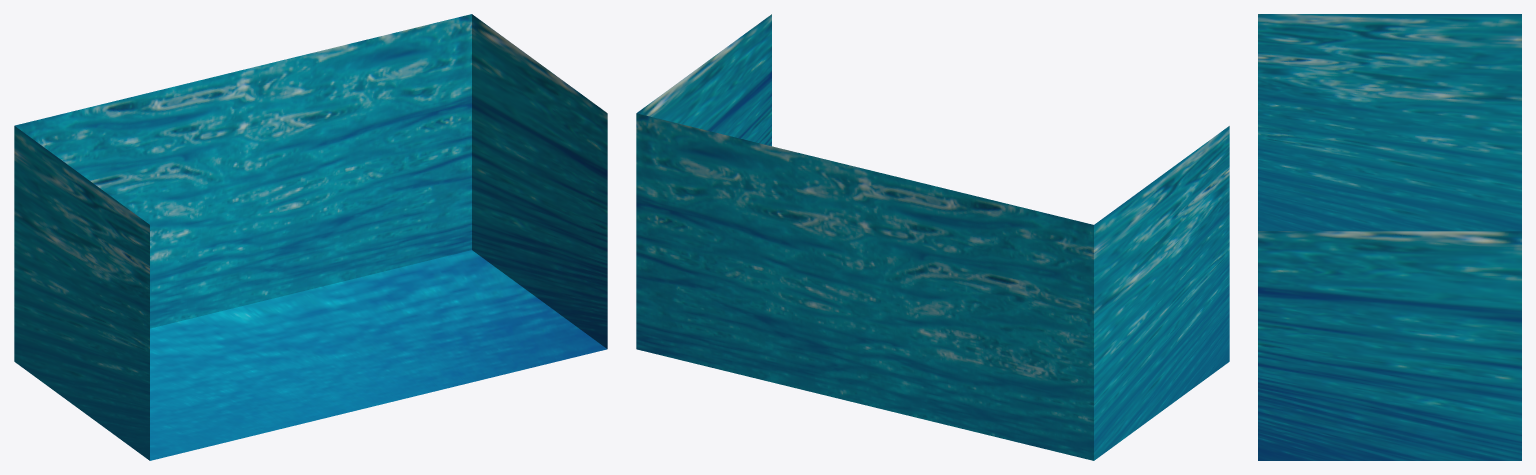
File: UW_Floor_Surface_2.dae
3 views of the same model, side by side, from view 1: azimuth 30°, elevation 25°; view 2: azimuth 150°, elevation 25°; view 3: azimuth 270°, elevation 25° (orthographic). The views are drawn at different scales.
Visible parts, largest first — view 1: Cube_001; view 2: Cube_001; view 3: Cube_001.
Boxes of the visible parts, <box> form: Cube_001: <box>14,14,607,460</box>; Cube_001: <box>636,14,1229,460</box>; Cube_001: <box>1258,14,1521,460</box>.
Size of the model in its own units: 917 by 471 by 452.
Materials: 1 (1 with a texture image).
